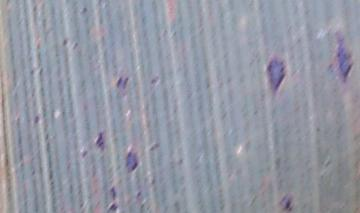tarspot: (332, 30, 356, 82), (265, 53, 286, 94), (121, 147, 140, 173), (114, 74, 130, 93), (94, 130, 105, 153), (102, 201, 121, 213), (281, 195, 293, 212), (107, 186, 121, 200), (78, 147, 90, 161), (78, 4, 90, 18), (30, 112, 40, 128), (58, 36, 70, 48)
